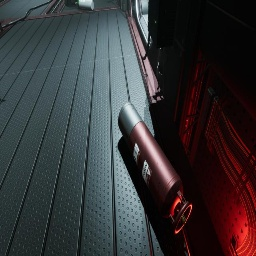0: (75, 0, 94, 10)
NitrogenTank ,: (118, 102, 192, 234)
